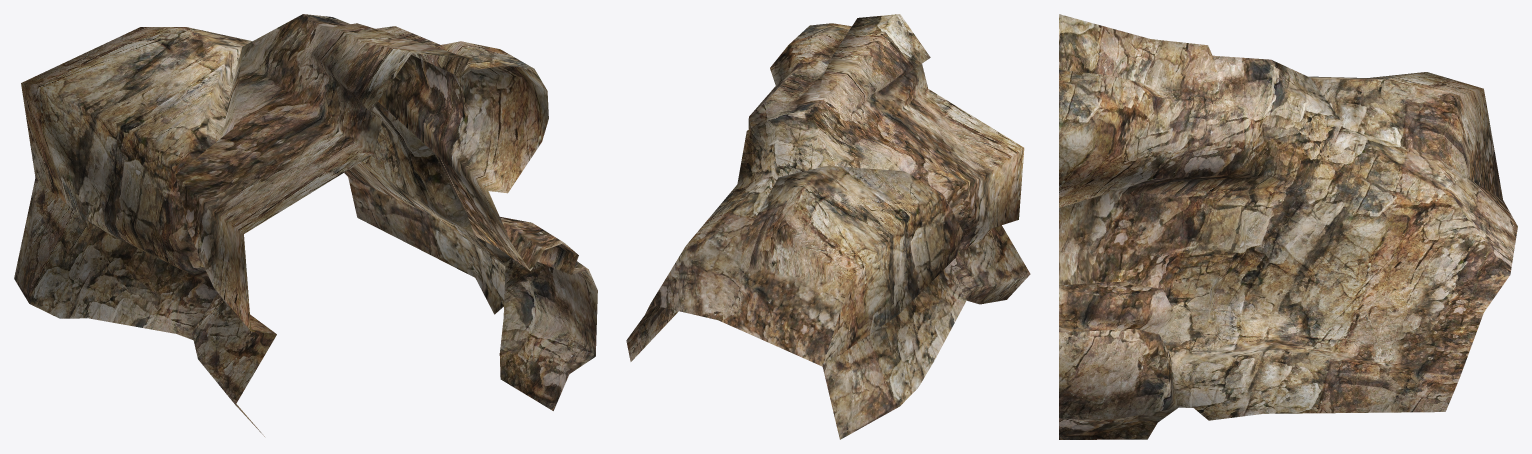
File: ex_DungeonSet_Cliff_01E.fbx
3 views of the same model, side by side, from view 1: azimuth 30°, elevation 25°; view 2: azimuth 150°, elevation 25°; view 3: azimuth 270°, elevation 25° (orthographic). The views are drawn at different scales.
Parts seen in each view (by area): view 1: ex_DungeonSet_Cliff_01E; view 2: ex_DungeonSet_Cliff_01E; view 3: ex_DungeonSet_Cliff_01E.
Boxes of the visible parts, <box> form: ex_DungeonSet_Cliff_01E: <box>14,14,597,436</box>; ex_DungeonSet_Cliff_01E: <box>626,14,1030,439</box>; ex_DungeonSet_Cliff_01E: <box>1059,14,1517,439</box>.
Size of the model in its own units: 2346 by 2326 by 2657.
